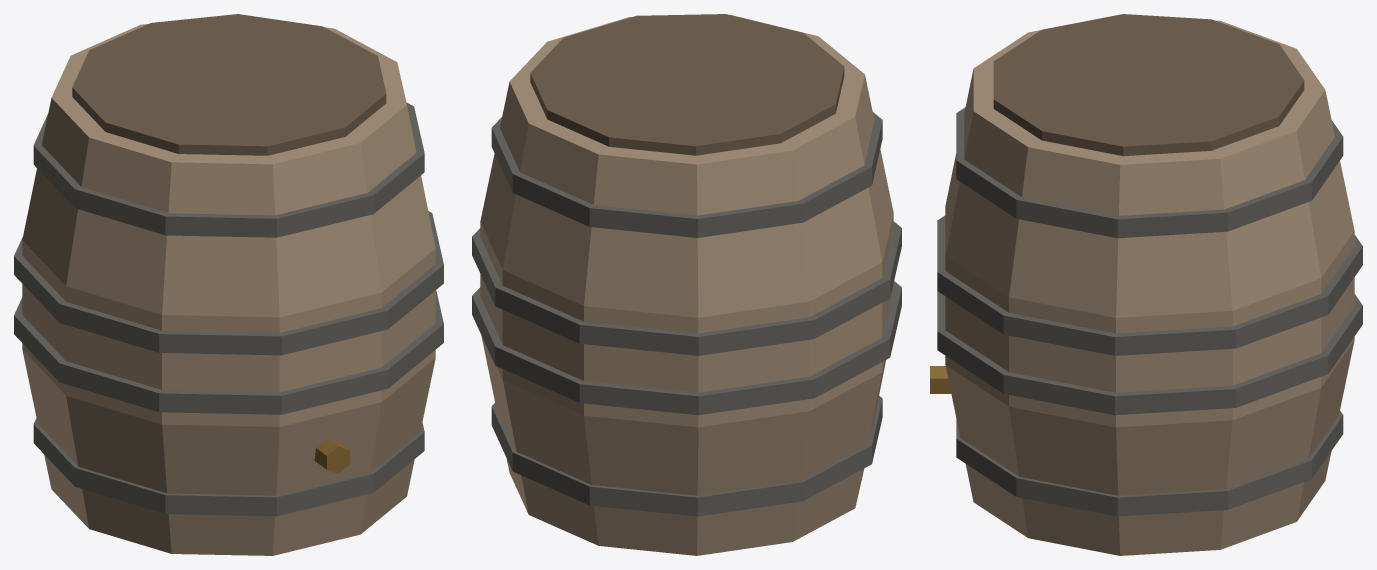
File: barrel_1_3.glb
3 renders of one model, left to right at view 1: azimuth 30°, elevation 25°; view 2: azimuth 150°, elevation 25°; view 3: azimuth 270°, elevation 25°, orthographic.
Parts seen in each view (by area): view 1: Barrel_1_3; view 2: Barrel_1_3; view 3: Barrel_1_3.
Boxes of the visible parts, <box> form: Barrel_1_3: <box>14,14,443,555</box>; Barrel_1_3: <box>472,14,901,555</box>; Barrel_1_3: <box>930,14,1362,555</box>.
Size of the model in its own units: 0.6176 by 0.635 by 0.622.
